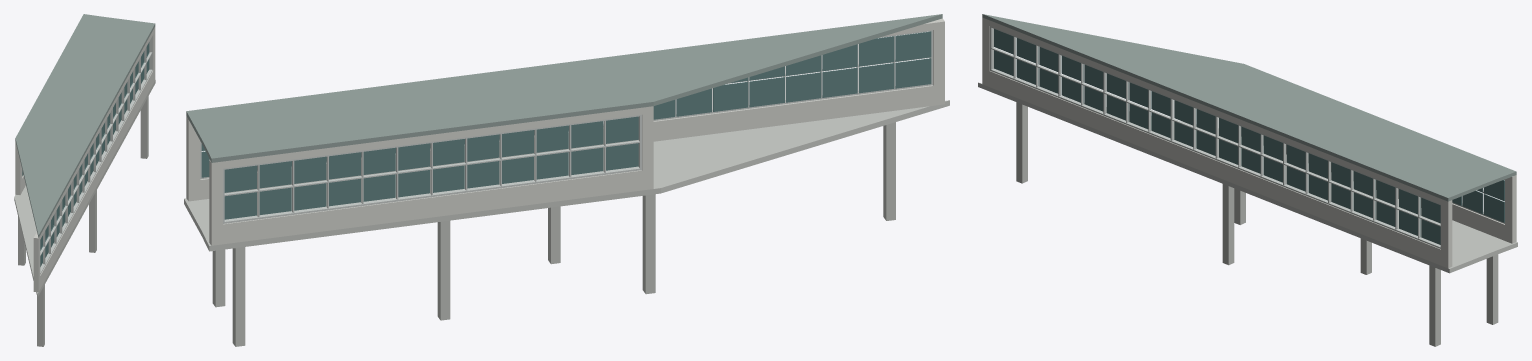
3 views of the same model, side by side, from view 1: azimuth 30°, elevation 25°; view 2: azimuth 150°, elevation 25°; view 3: azimuth 270°, elevation 25° (orthographic). The views are drawn at different scales.
Visible parts, largest first — view 1: bridge__roof, bridge__wall, bridge__frame, bridge__glass, bridge__stone, bridge__slab; view 2: bridge__roof, bridge__glass, bridge__wall, bridge__slab, bridge__frame, bridge__stone; view 3: bridge__roof, bridge__glass, bridge__wall, bridge__frame, bridge__slab, bridge__stone.
Part boxes in pixels (x1=…): bridge__roof: x1=15, y1=14, x2=155, y2=237; bridge__wall: x1=15, y1=27, x2=155, y2=292; bridge__frame: x1=40, y1=36, x2=152, y2=274; bridge__glass: x1=22, y1=42, x2=149, y2=266; bridge__stone: x1=18, y1=96, x2=148, y2=346; bridge__slab: x1=14, y1=80, x2=155, y2=297; bridge__roof: x1=186, y1=14, x2=942, y2=162; bridge__glass: x1=201, y1=31, x2=931, y2=219; bridge__wall: x1=186, y1=18, x2=944, y2=245; bridge__slab: x1=184, y1=100, x2=949, y2=251; bridge__frame: x1=200, y1=30, x2=932, y2=223; bridge__stone: x1=212, y1=122, x2=895, y2=346; bridge__roof: x1=982, y1=14, x2=1516, y2=201; bridge__glass: x1=994, y1=29, x2=1504, y2=244; bridge__wall: x1=982, y1=17, x2=1516, y2=268; bridge__frame: x1=990, y1=26, x2=1504, y2=248; bridge__slab: x1=978, y1=82, x2=1517, y2=273; bridge__stone: x1=1016, y1=102, x2=1498, y2=346.
Size of the model in its own units: 18.21 by 7.1 by 22.27.
